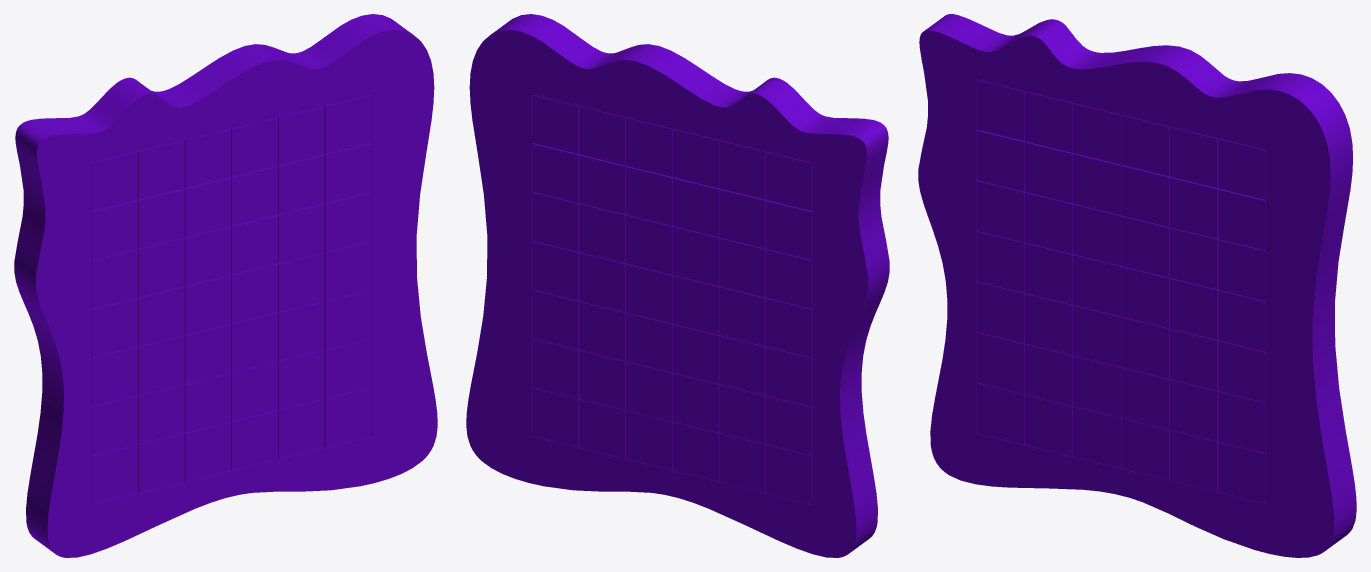
File: check.glb
The picture shows the model from 3 angles, left to right: view 1: azimuth 30°, elevation 25°; view 2: azimuth 150°, elevation 25°; view 3: azimuth 330°, elevation 25°; orthographic projection. The views are drawn at different scales.
Parts seen in each view (by area): view 1: Body1, Body9, Body34, Body22, Body27, Body16, Body2, Body20, Body4, Body37, Body6, Body25 (+31 smaller); view 2: Body1, Body9, Body34, Body22, Body27, Body16, Body2, Body20, Body4, Body37, Body6, Body25 (+31 smaller); view 3: Body1, Body17, Body42, Body23, Body35, Body38, Body21, Body14, Body11, Body32, Body34, Body10 (+31 smaller).
Part boxes in pixels (x1,y1,x2,y2): Body1: [14, 14, 437, 557]; Body9: [324, 143, 371, 202]; Body34: [184, 177, 231, 237]; Body22: [324, 339, 371, 398]; Body27: [324, 192, 371, 251]; Body16: [184, 226, 231, 286]; Body2: [324, 290, 371, 349]; Body20: [184, 324, 231, 383]; Body4: [184, 373, 231, 432]; Body37: [184, 275, 231, 334]; Body6: [324, 241, 371, 300]; Body25: [184, 422, 231, 481]; Body1: [466, 14, 889, 557]; Body9: [532, 143, 579, 202]; Body34: [672, 177, 719, 237]; Body22: [532, 339, 579, 398]; Body27: [532, 192, 579, 251]; Body16: [672, 226, 719, 286]; Body2: [532, 290, 579, 349]; Body20: [672, 324, 719, 383]; Body4: [672, 373, 719, 432]; Body37: [672, 275, 719, 334]; Body6: [532, 241, 579, 300]; Body25: [672, 422, 719, 481]; Body1: [918, 14, 1356, 557]; Body17: [1169, 227, 1218, 289]; Body42: [1169, 379, 1218, 441]; Body23: [1169, 328, 1218, 390]; Body35: [1169, 177, 1218, 238]; Body38: [1169, 278, 1218, 339]; Body21: [1169, 430, 1218, 491]; Body14: [1169, 126, 1218, 187]; Body11: [1024, 141, 1073, 203]; Body32: [976, 130, 1025, 191]; Body34: [1073, 153, 1121, 215]; Body10: [1121, 165, 1169, 226].
Bounding box in the file's own units: 0.0431 × 0.0462 × 0.004.
